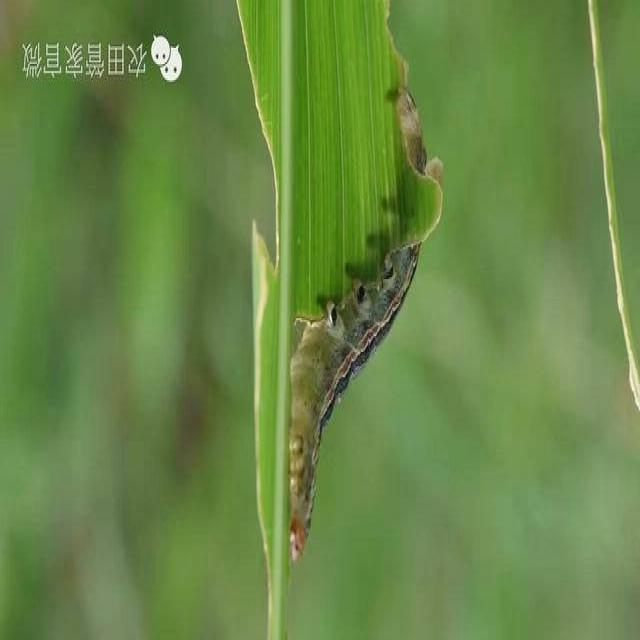army worm: (286, 55, 431, 562)
